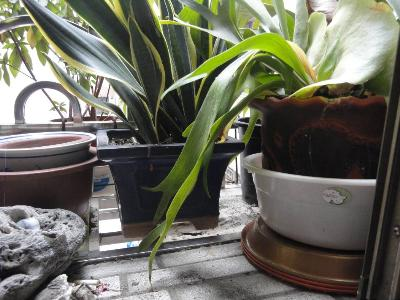bowl: (242, 148, 378, 255), (1, 146, 98, 240), (1, 129, 97, 174)
plate: (235, 216, 372, 293)
